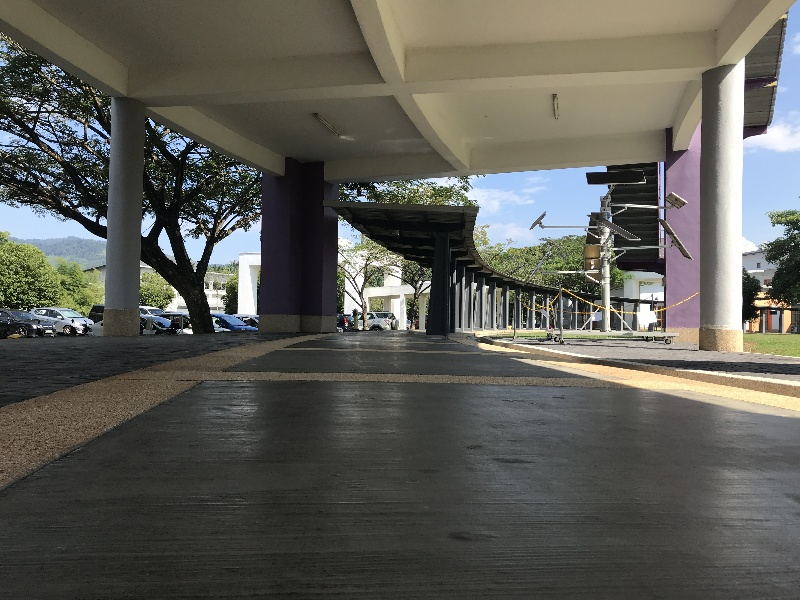Block D Pillar 4: (12, 11, 800, 544)
pillar: (243, 142, 348, 337), (694, 72, 757, 365), (92, 86, 151, 342), (655, 121, 709, 344), (423, 226, 451, 334)
